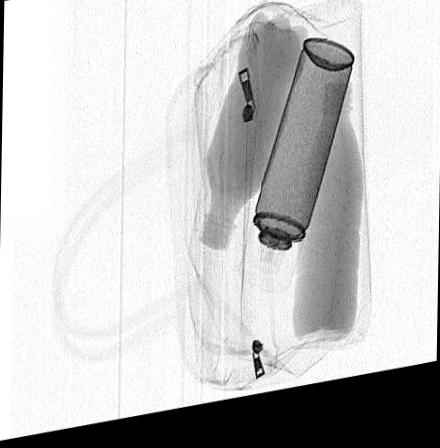Sprayer: (240, 49, 354, 304)
